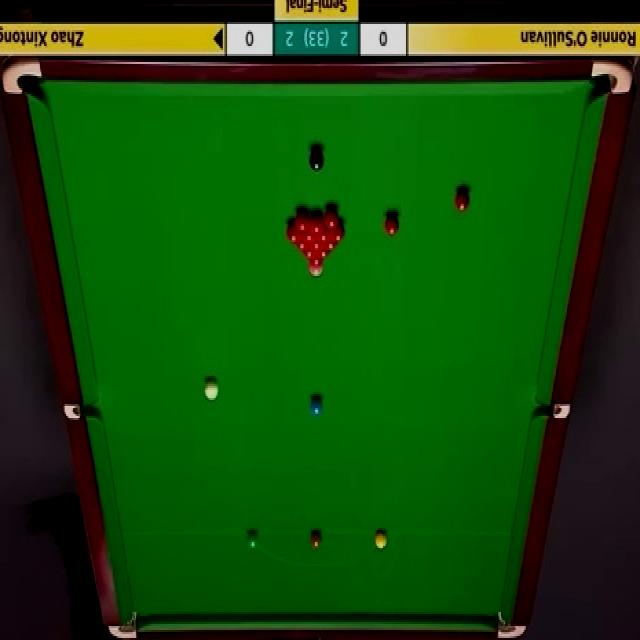black-ball: (310, 149, 326, 173)
blue-ball: (310, 398, 324, 415)
brown-ball: (310, 531, 322, 549)
green-ball: (245, 530, 260, 552)
pink-ball: (308, 262, 323, 276)
red-ball: (454, 186, 471, 212), (324, 207, 342, 230), (309, 213, 324, 235), (288, 222, 303, 244), (385, 214, 400, 236), (332, 221, 345, 243), (295, 210, 309, 230), (302, 221, 315, 242), (325, 239, 336, 251), (311, 238, 322, 250), (312, 253, 322, 265)
white-ball: (204, 379, 218, 402)
yellow-ball: (375, 530, 387, 550)
